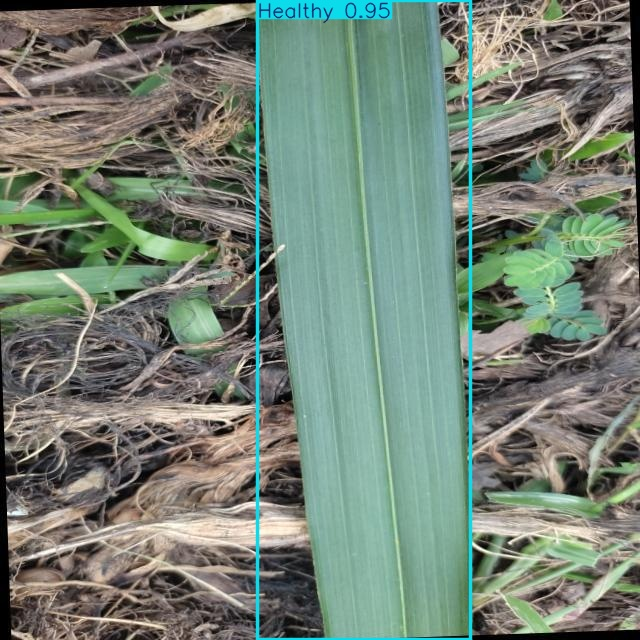Healthy: (257, 0, 470, 639)
